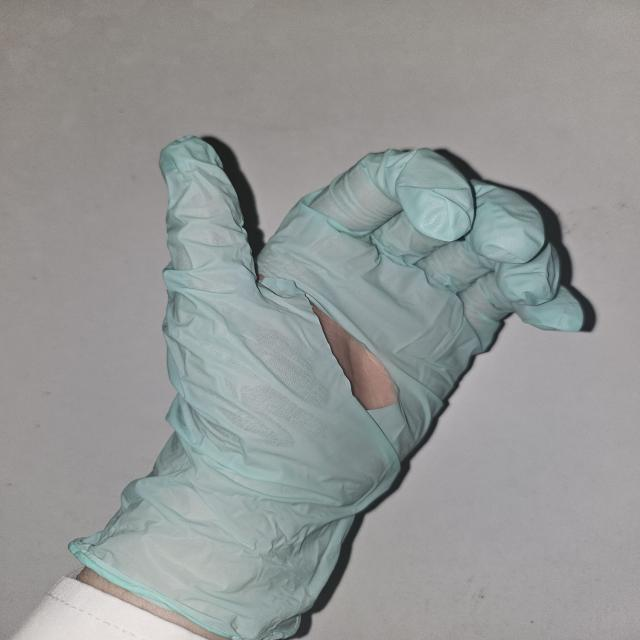gloves_damaged: (64, 132, 592, 640)
